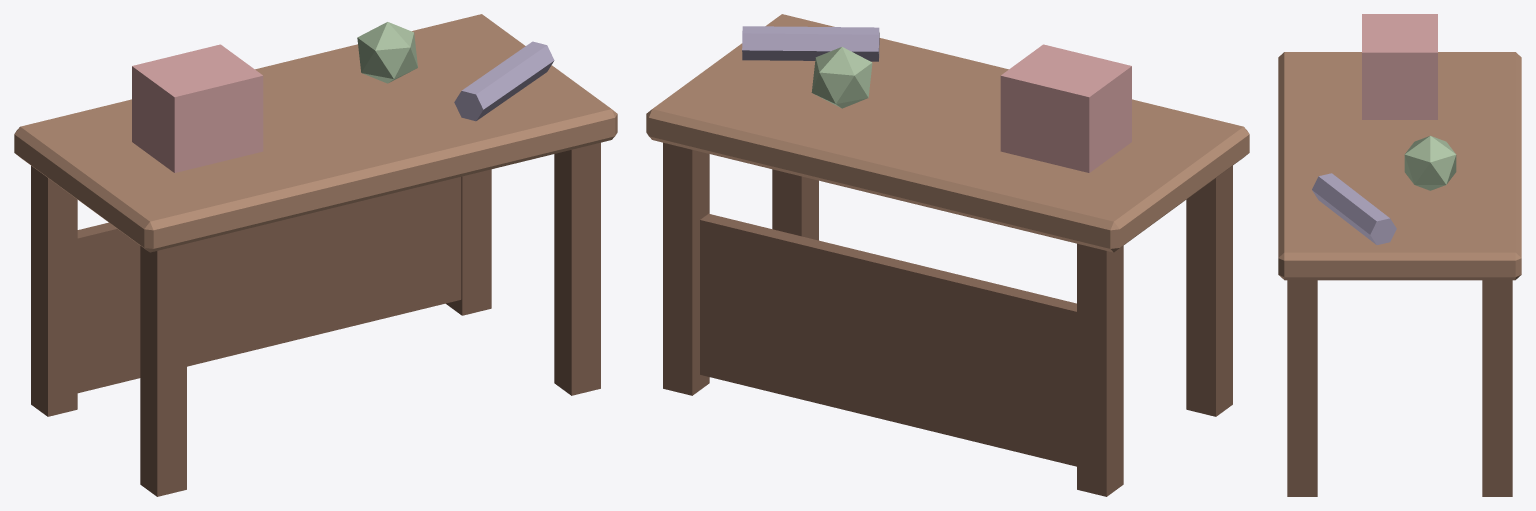
Rendered from sb_workbench.glb.
3 views of the same model, side by side, from view 1: azimuth 30°, elevation 25°; view 2: azimuth 150°, elevation 25°; view 3: azimuth 270°, elevation 25° (orthographic). The views are drawn at different scales.
Visible parts, largest first — view 1: workbench; view 2: workbench; view 3: workbench.
Part boxes in pixels (<box>): workbench: <box>14,14,617,496</box>; workbench: <box>646,14,1249,496</box>; workbench: <box>1278,14,1521,496</box>.
Size of the model in its own units: 1.6 by 1.14 by 0.8.
